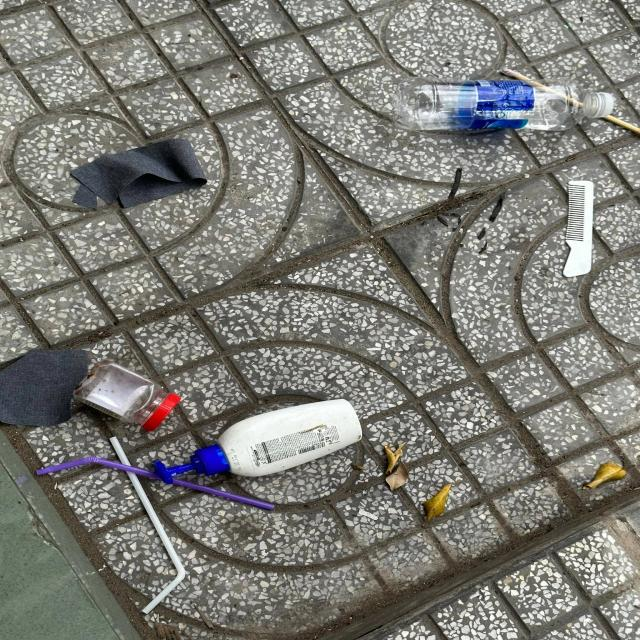bottle: (397, 80, 614, 132)
clothes: (69, 138, 206, 212), (0, 348, 87, 426)
drinking straw: (36, 455, 276, 511), (110, 436, 184, 614)
plastic holder: (151, 400, 362, 486), (74, 362, 182, 432)
